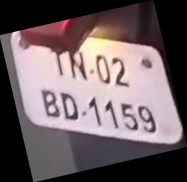character: (40, 89, 61, 118), (59, 91, 80, 120), (68, 49, 87, 81), (111, 56, 129, 87), (137, 104, 156, 133), (120, 102, 138, 131), (95, 53, 111, 84), (88, 95, 102, 126), (104, 100, 118, 129)
